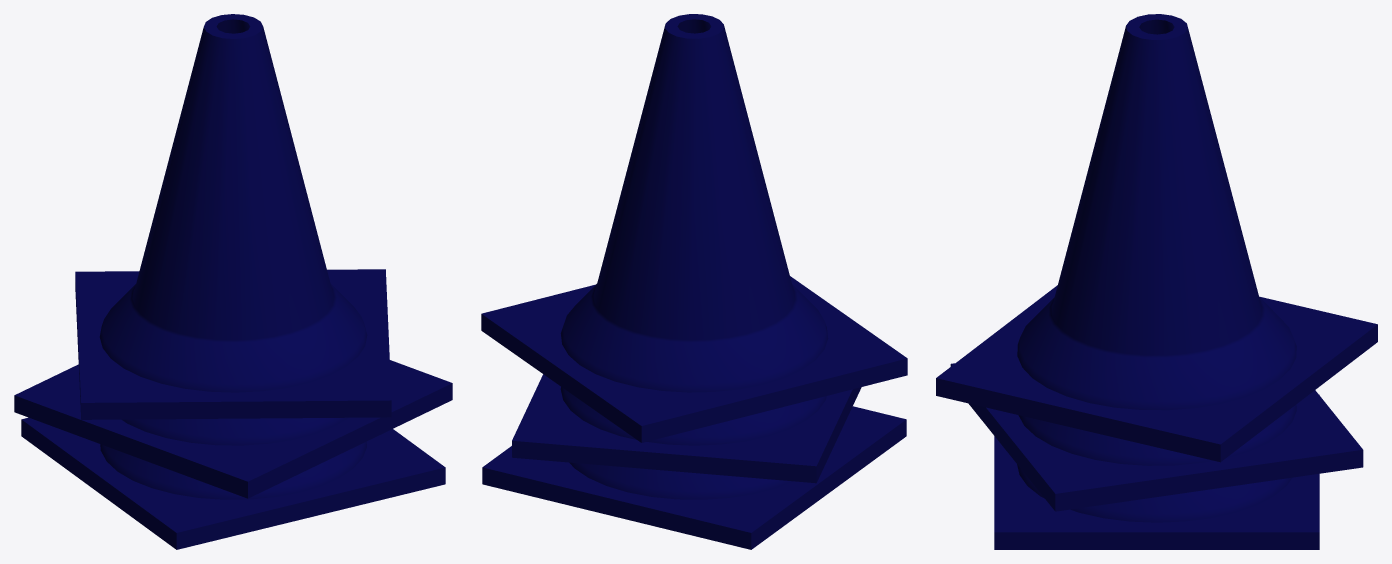
File: SM_TrafficConeStacked.fbx
The picture shows the model from 3 angles, left to right: view 1: azimuth 30°, elevation 25°; view 2: azimuth 150°, elevation 25°; view 3: azimuth 270°, elevation 25°; orthographic projection. The views are drawn at different scales.
Visible parts, largest first — view 1: TrafficConeStacked; view 2: TrafficConeStacked; view 3: TrafficConeStacked.
Part boxes in pixels (x1,y1,x2,y2): TrafficConeStacked: (14,14,452,549); TrafficConeStacked: (481,14,907,549); TrafficConeStacked: (936,14,1377,549).
Bounding box in the file's own units: 39.41 × 44.7 × 39.41.
